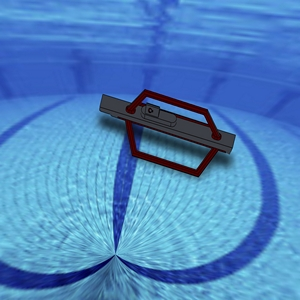submarine: (98, 81, 244, 178)
